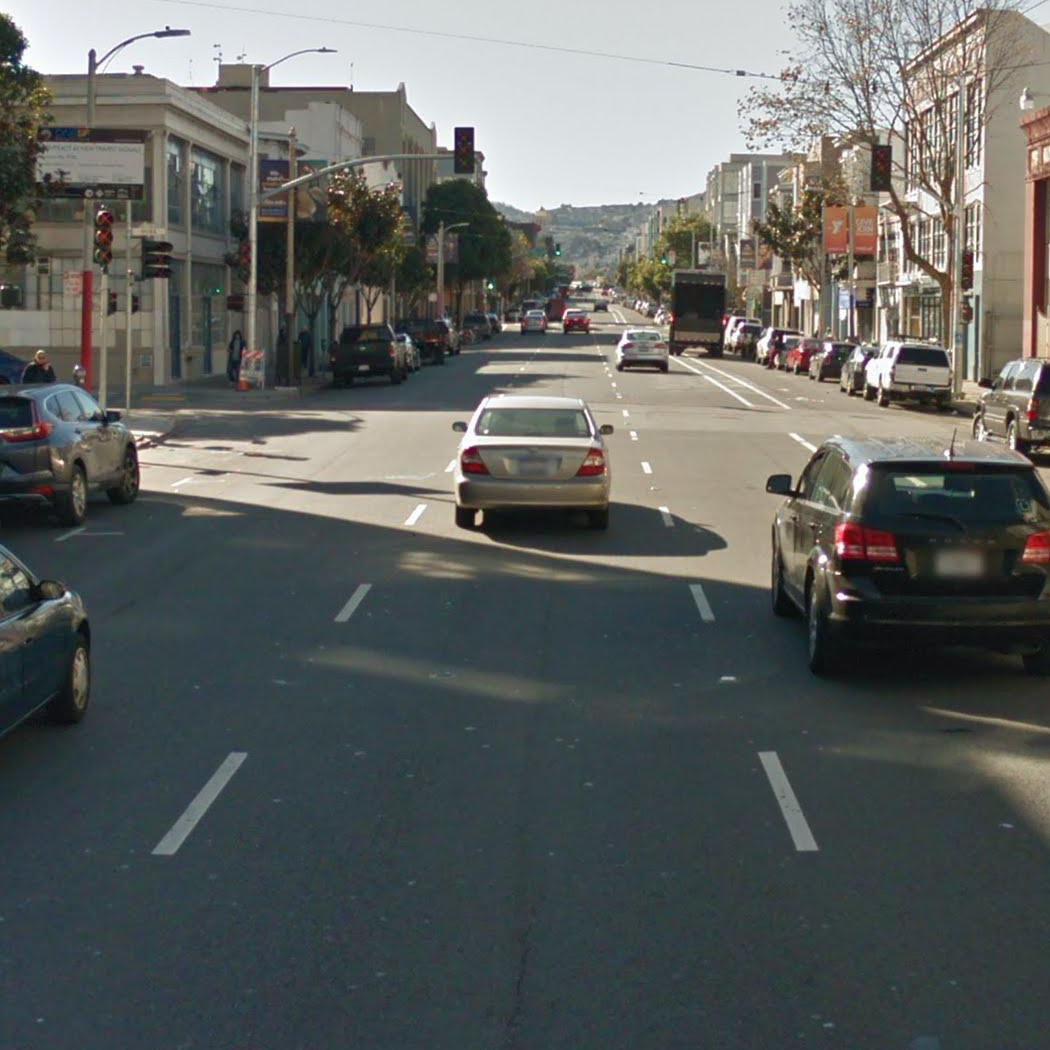No Parking: (62, 271, 84, 296)
